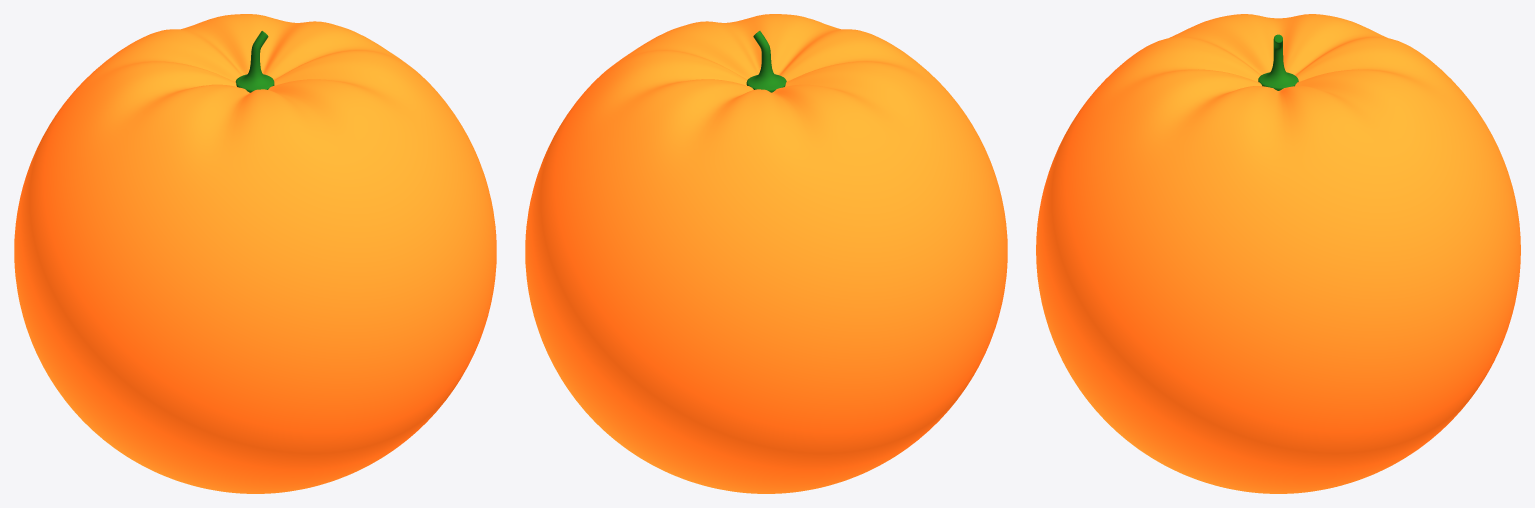
File: orange.glb
3 views of the same model, side by side, from view 1: azimuth 30°, elevation 25°; view 2: azimuth 150°, elevation 25°; view 3: azimuth 270°, elevation 25° (orthographic).
Visible parts, largest first — view 1: Sphere, Cylinder; view 2: Sphere, Cylinder; view 3: Sphere, Cylinder.
Boxes of the visible parts, left/top/right/bottom form: Sphere: left=14, top=14, right=496, bottom=493; Cylinder: left=235, top=31, right=274, bottom=92; Sphere: left=525, top=14, right=1007, bottom=493; Cylinder: left=746, top=31, right=786, bottom=92; Sphere: left=1036, top=14, right=1520, bottom=493; Cylinder: left=1258, top=34, right=1298, bottom=90.
Size of the model in its own units: 2.31 by 2.32 by 2.31.
